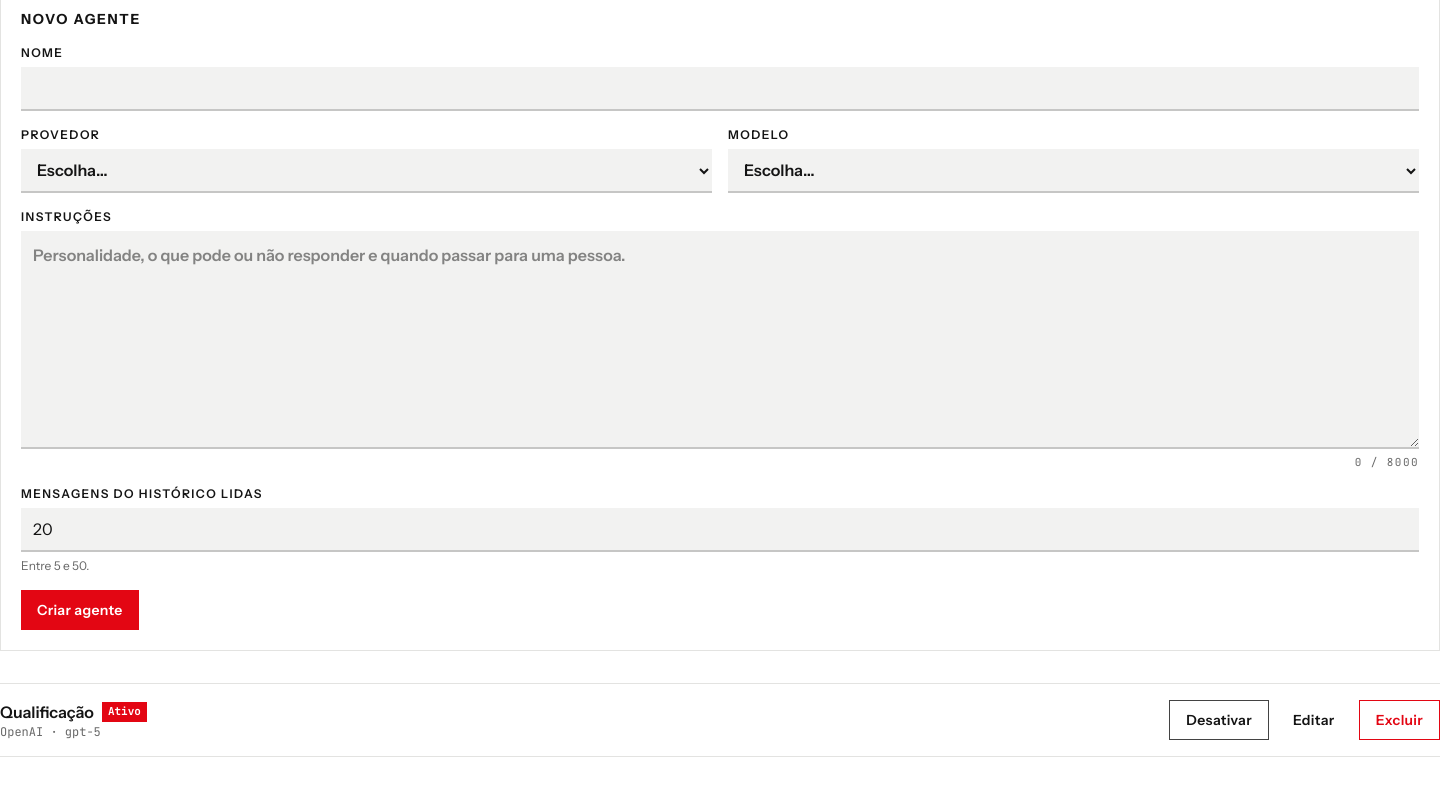
it: AgentManager › toggles an agent, edits it and shows AGENT_IN_USE on delete
Click the button "Desativar" at (1219, 720), box [1169,700,1269,740]
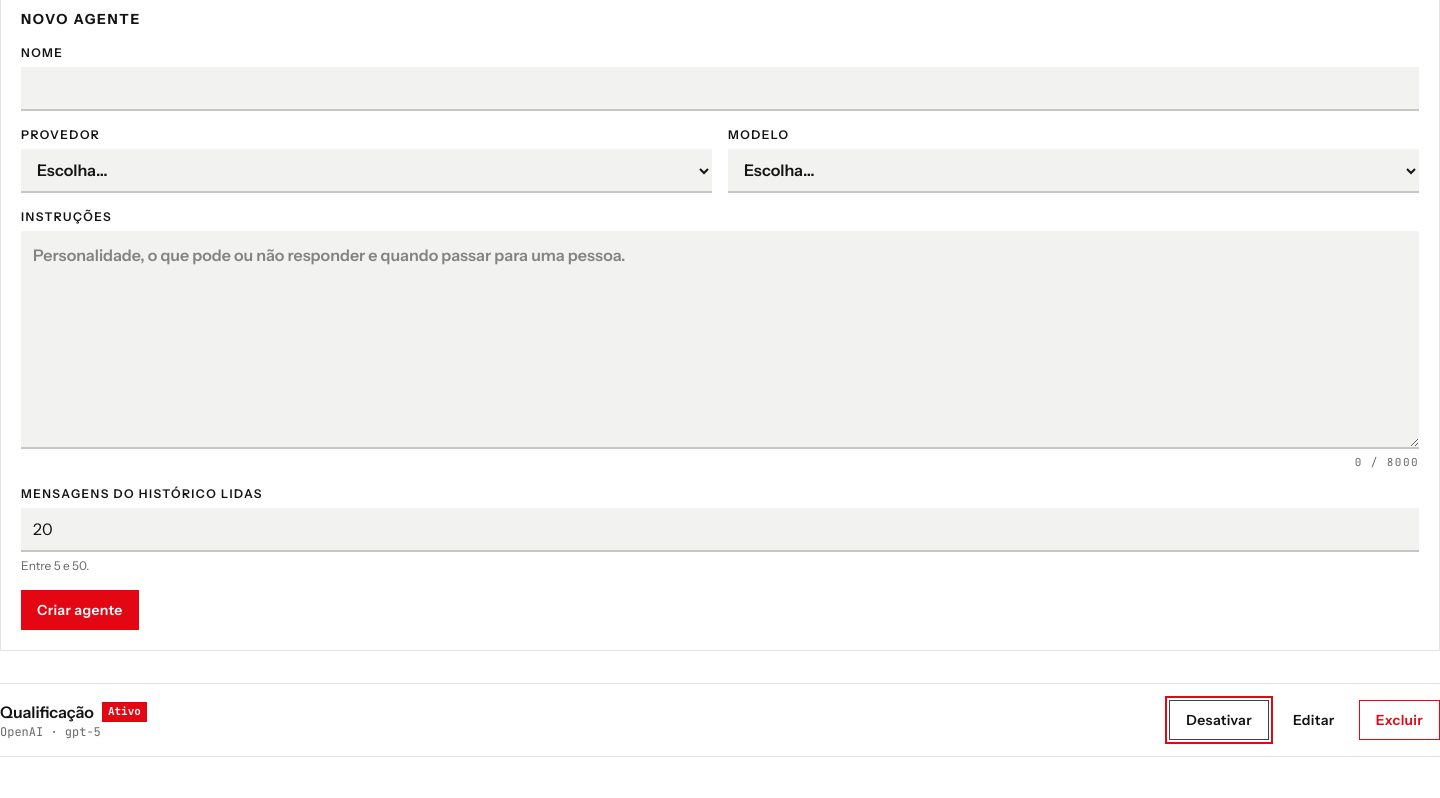
Click the button "Excluir" at (1399, 720), box [1359,700,1439,740]
(page scrolled)
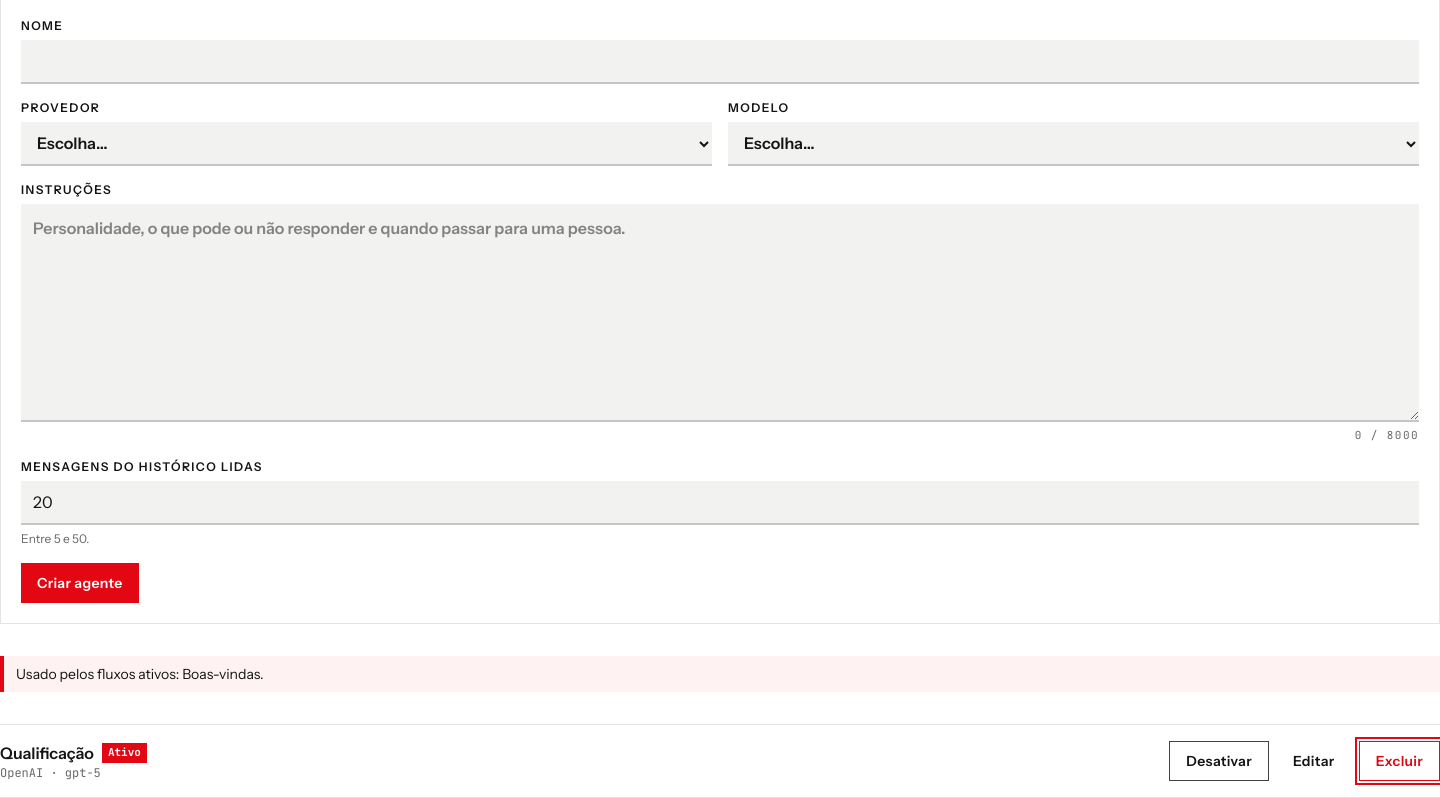
Expected: the text "Usado pelos fluxos ativos: Boas-vindas." is shown, [0,656,1439,692]
Click the button "Editar" at (1314, 761), box [1277,741,1351,781]
(page scrolled)
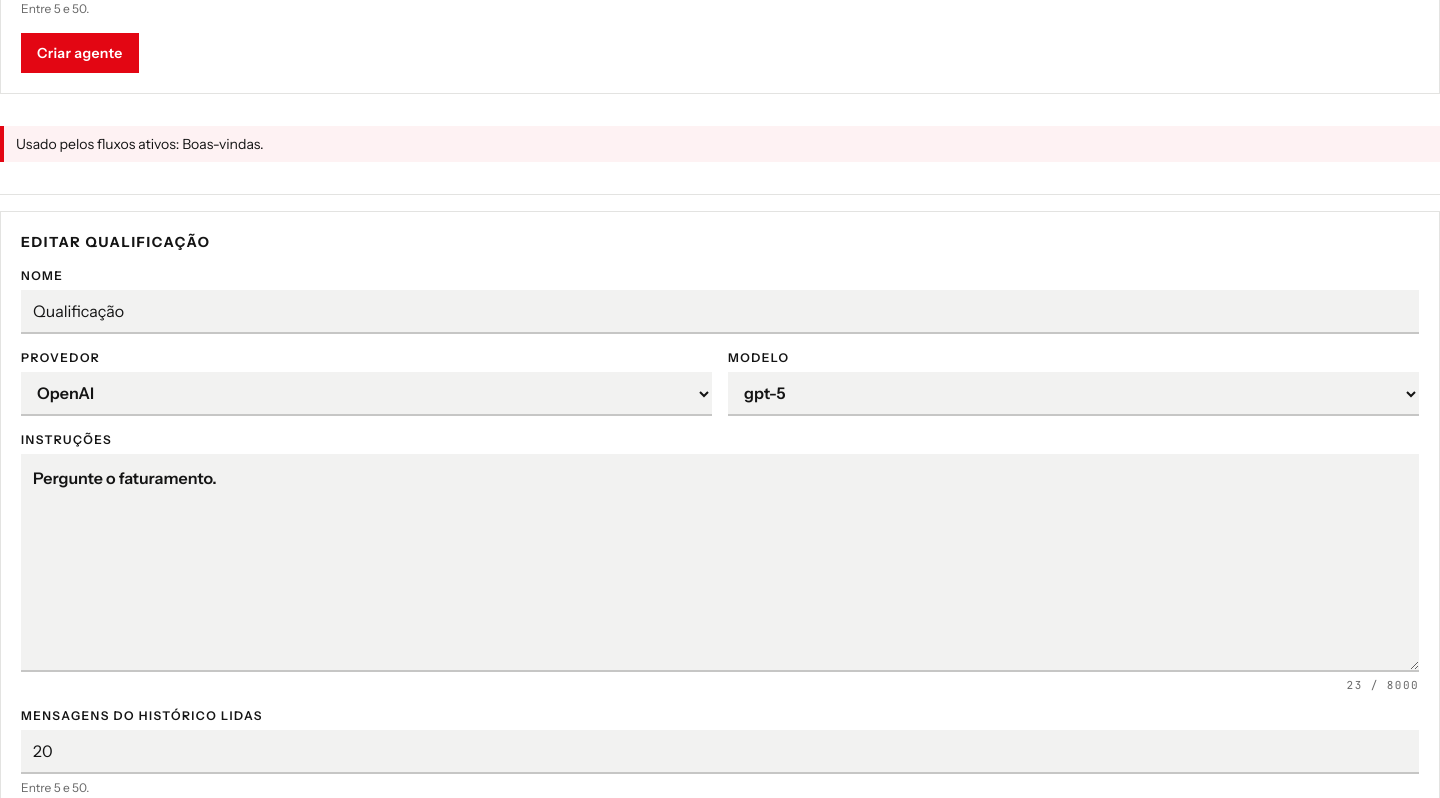
Expected: the dropdown labelled "Modelo" shows "gpt-5", [728,372,1419,416]
